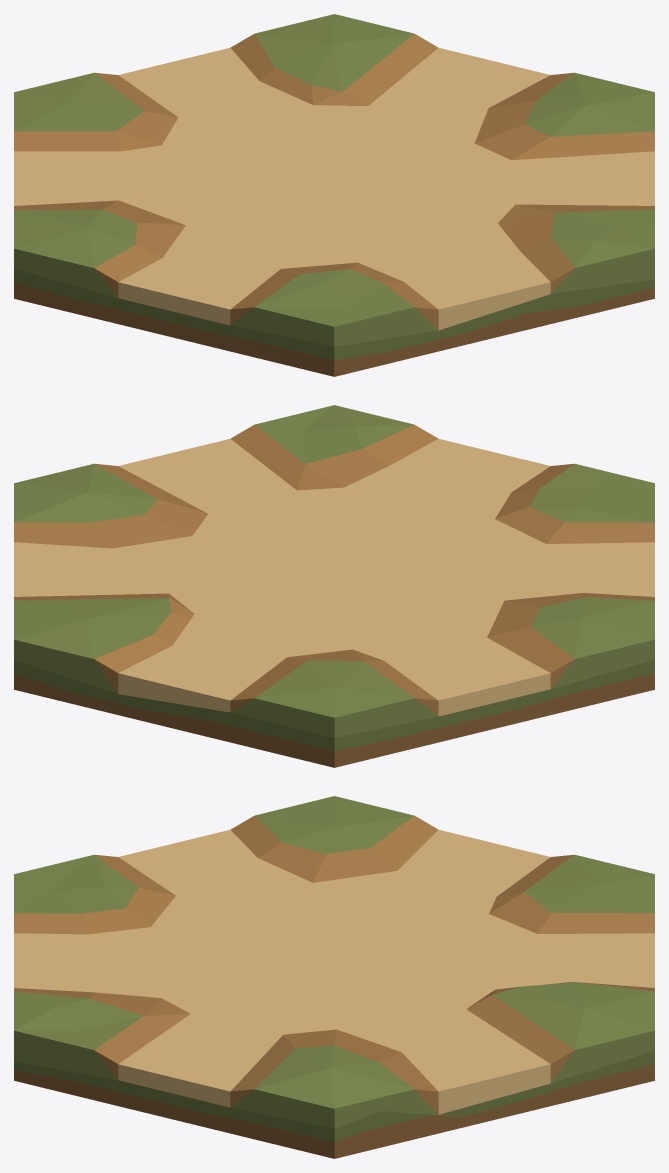
Rendered from SM_Tile_Hex_Path_10.glb.
The picture shows the model from 3 angles, top to bottom: view 1: azimuth 30°, elevation 25°; view 2: azimuth 150°, elevation 25°; view 3: azimuth 270°, elevation 25°; orthographic projection.
Visible parts, largest first — view 1: SM_Tile_Hex_Path_10; view 2: SM_Tile_Hex_Path_10; view 3: SM_Tile_Hex_Path_10.
Boxes of the visible parts, x1,y1,x2,y2 form: SM_Tile_Hex_Path_10: (14, 14, 654, 376); SM_Tile_Hex_Path_10: (14, 405, 654, 767); SM_Tile_Hex_Path_10: (14, 796, 654, 1158).
Size of the model in its own units: 5.77 by 0.4862 by 5.
1 material, 1 textured.
